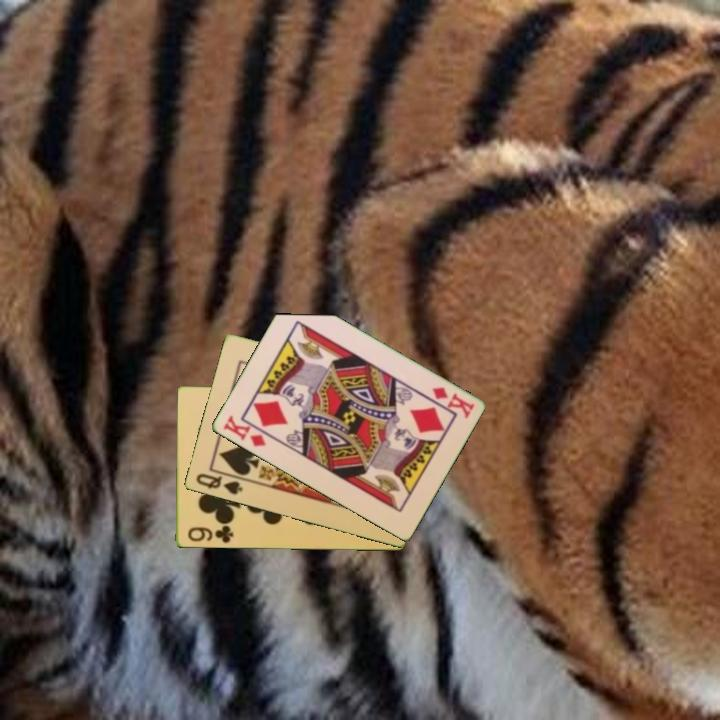9c: (184, 522, 236, 546)
Kd: (219, 412, 275, 450), (428, 383, 477, 421)
Qs: (192, 470, 245, 498)
